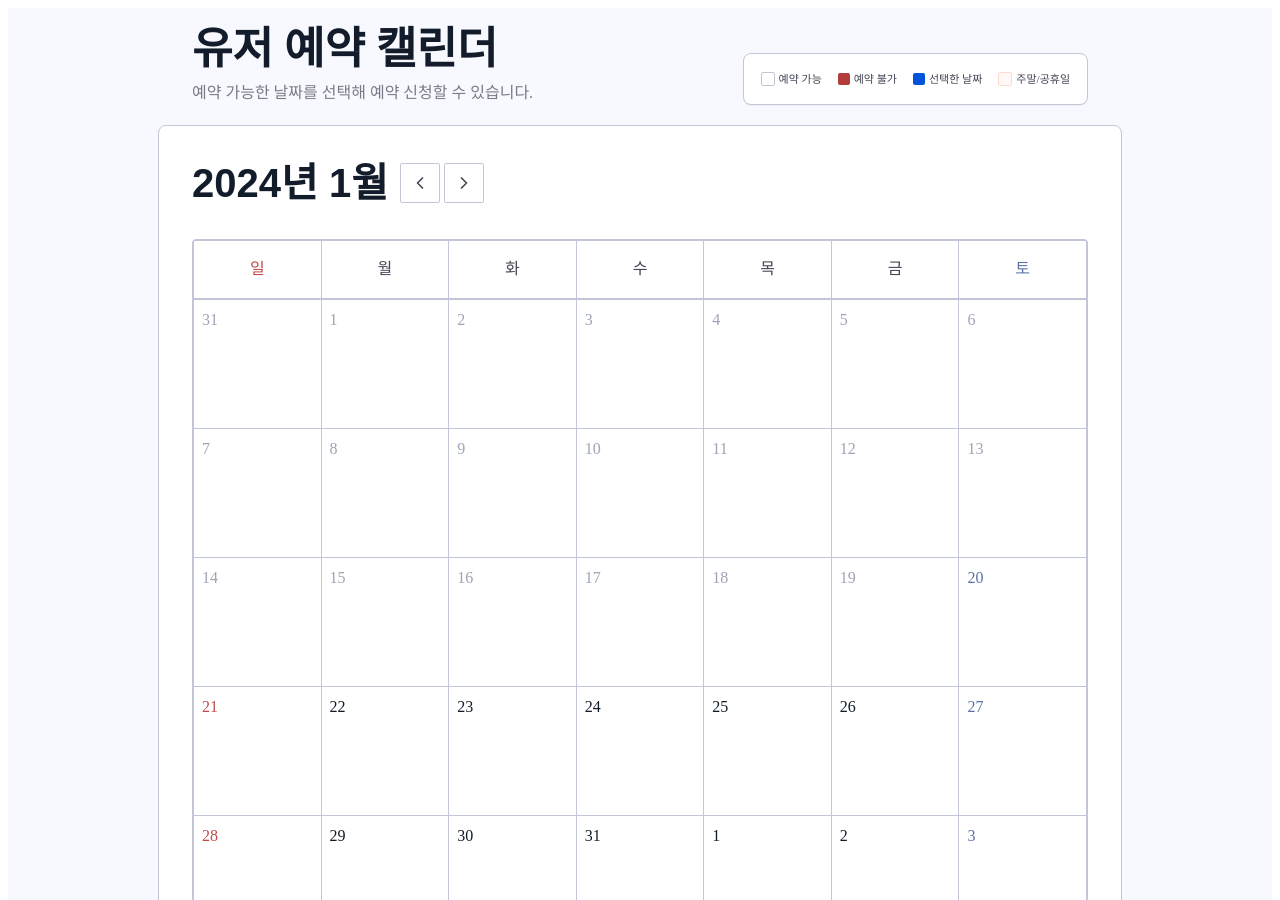
Test case: CalendarUser › Reservation › 선택한 날짜가 있으면 예약하기 버튼으로 예약 확인 모달을 열고 닫을 수 있다
Click the text "25".
click(768, 751)  # box x1=704 y1=687 x2=831 y2=815
(page scrolled)
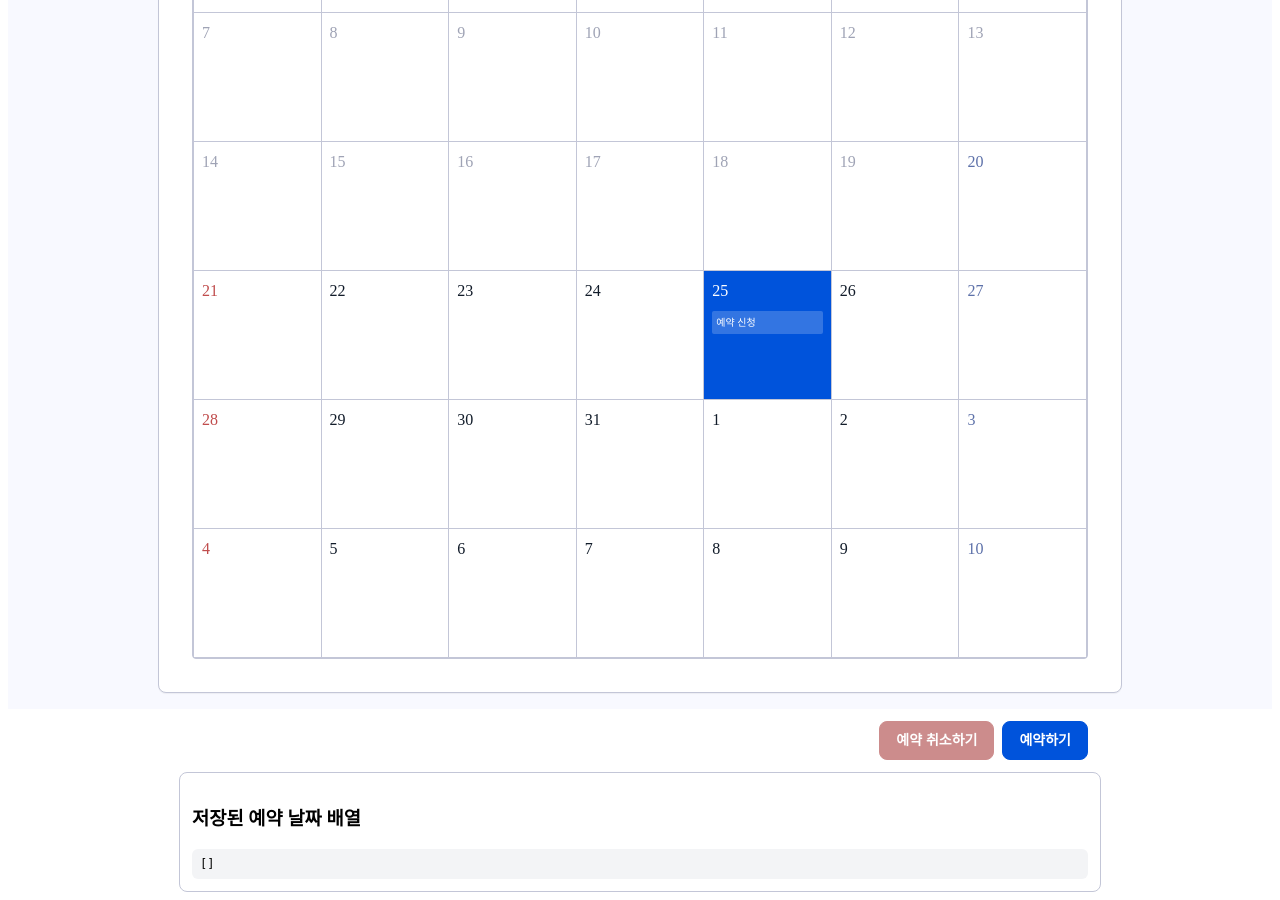
Click the button "예약하기".
click(1045, 740)  # box x1=1002 y1=721 x2=1088 y2=760
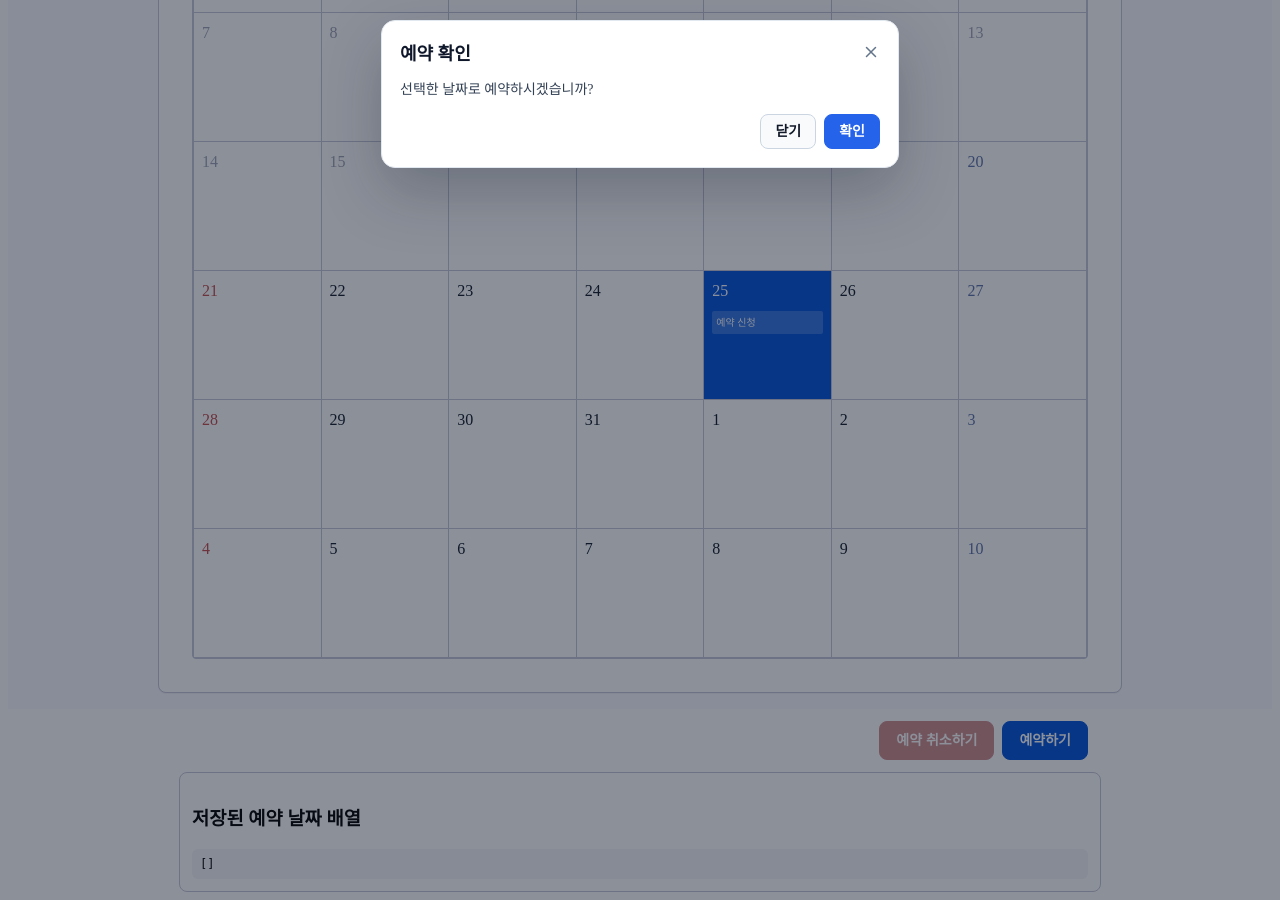
Expected: the dialog is shown, x1=381 y1=20 x2=899 y2=168
Click the button "닫기".
click(788, 131)  # box x1=760 y1=114 x2=816 y2=149
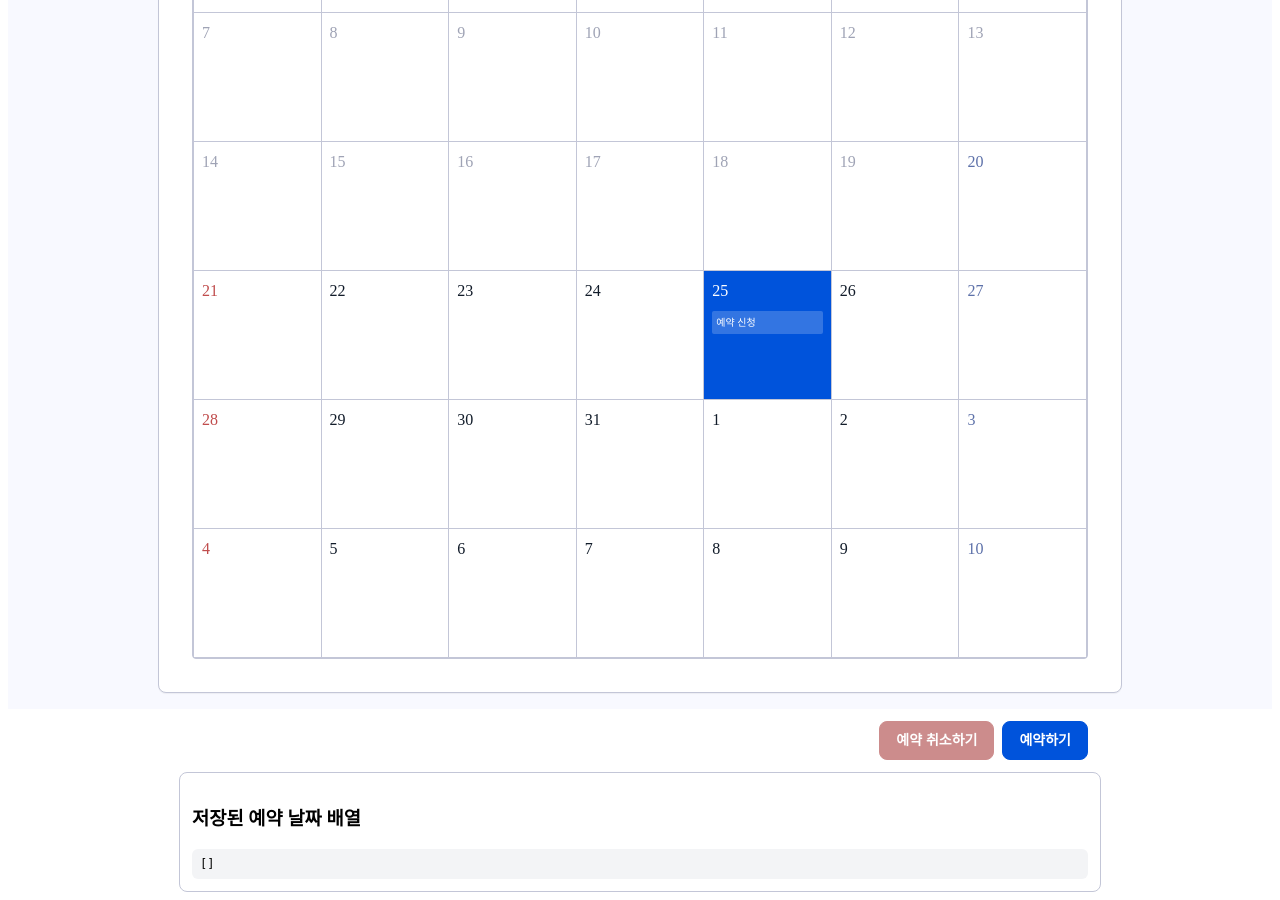
Expected: the dialog is gone
